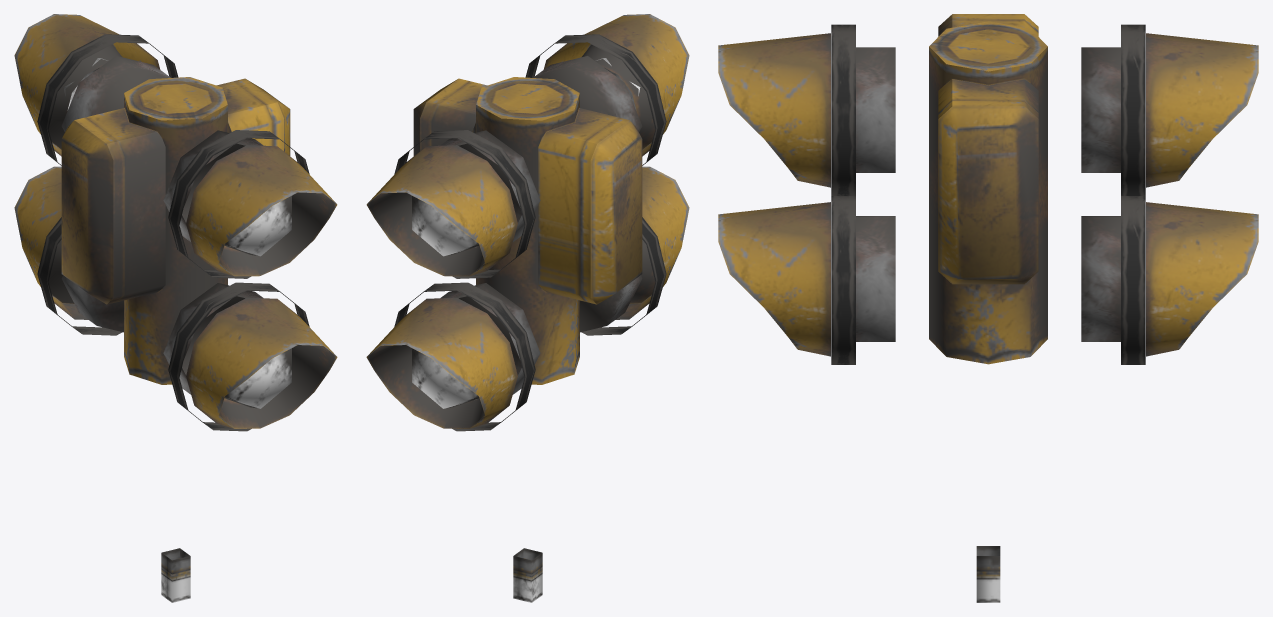
The model's file is Signal_Light_B_Body.FBX.
The picture shows the model from 3 angles, left to right: view 1: azimuth 30°, elevation 25°; view 2: azimuth 150°, elevation 25°; view 3: azimuth 270°, elevation 25°; orthographic projection. The views are drawn at different scales.
Visible parts, largest first — view 1: Geometry_Signal_Light_B_Body_LOD02; view 2: Geometry_Signal_Light_B_Body_LOD02; view 3: Geometry_Signal_Light_B_Body_LOD02.
Boxes of the visible parts, bbox=[...] form: Geometry_Signal_Light_B_Body_LOD02: bbox=[14, 14, 337, 602]; Geometry_Signal_Light_B_Body_LOD02: bbox=[366, 14, 689, 602]; Geometry_Signal_Light_B_Body_LOD02: bbox=[718, 14, 1258, 602].
Size of the model in its own units: 526 by 1099 by 1270.
